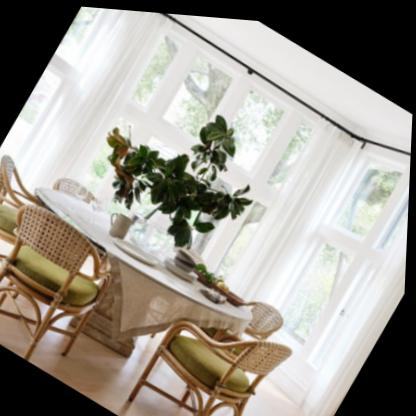Dining Table: (0, 148, 294, 416)
